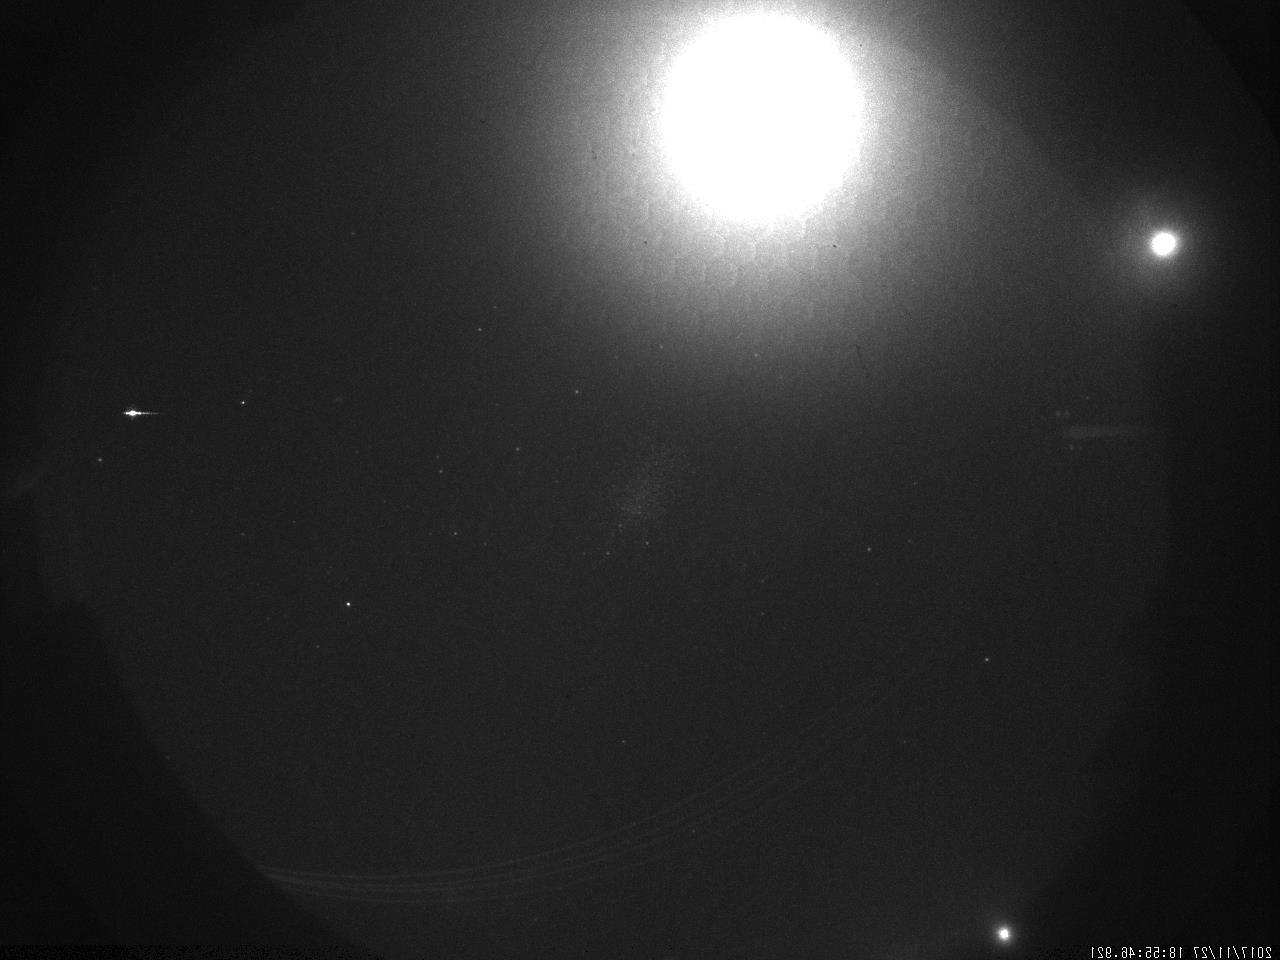meteor: (116, 398, 169, 431)
